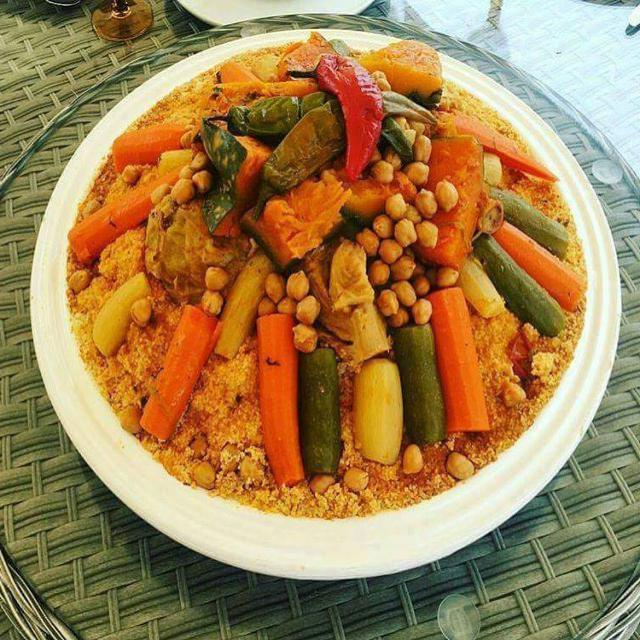Couscous: (65, 27, 586, 524)
